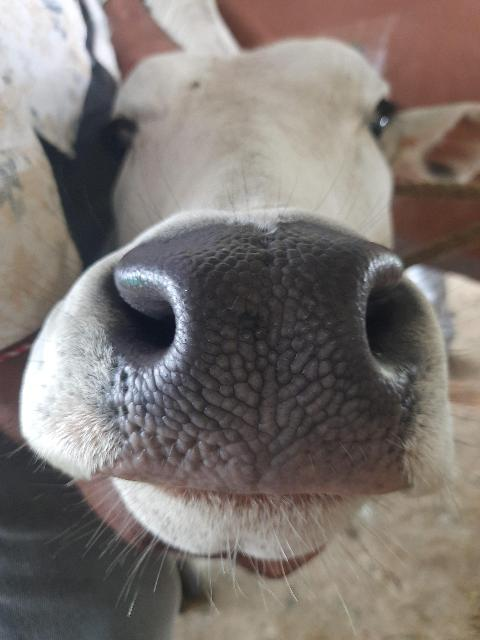Muzzle: (150, 244, 376, 496)
